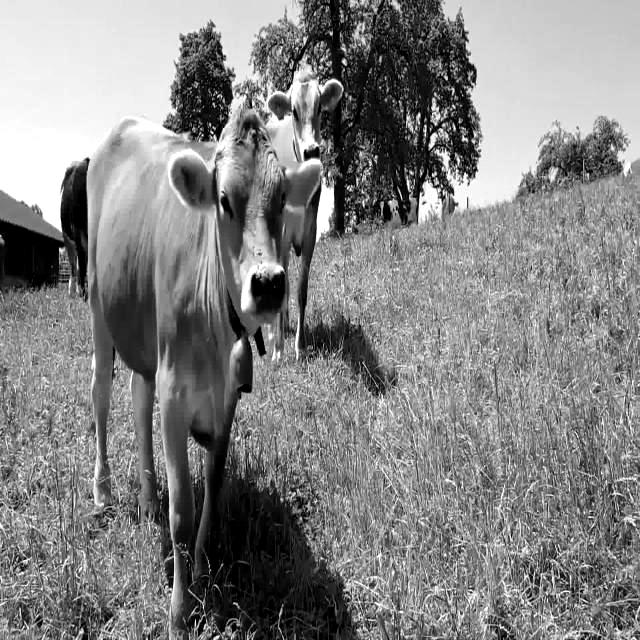COW: (88, 111, 320, 639), (266, 72, 344, 359), (272, 290, 288, 359)
